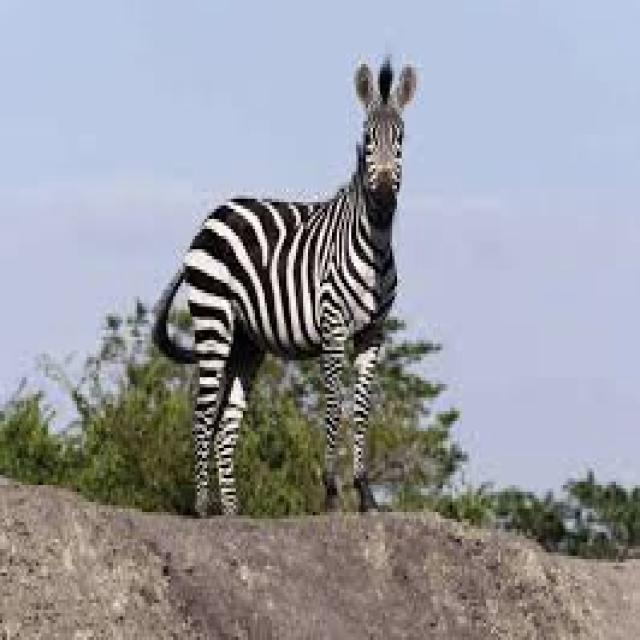zebra: (152, 57, 414, 512)
